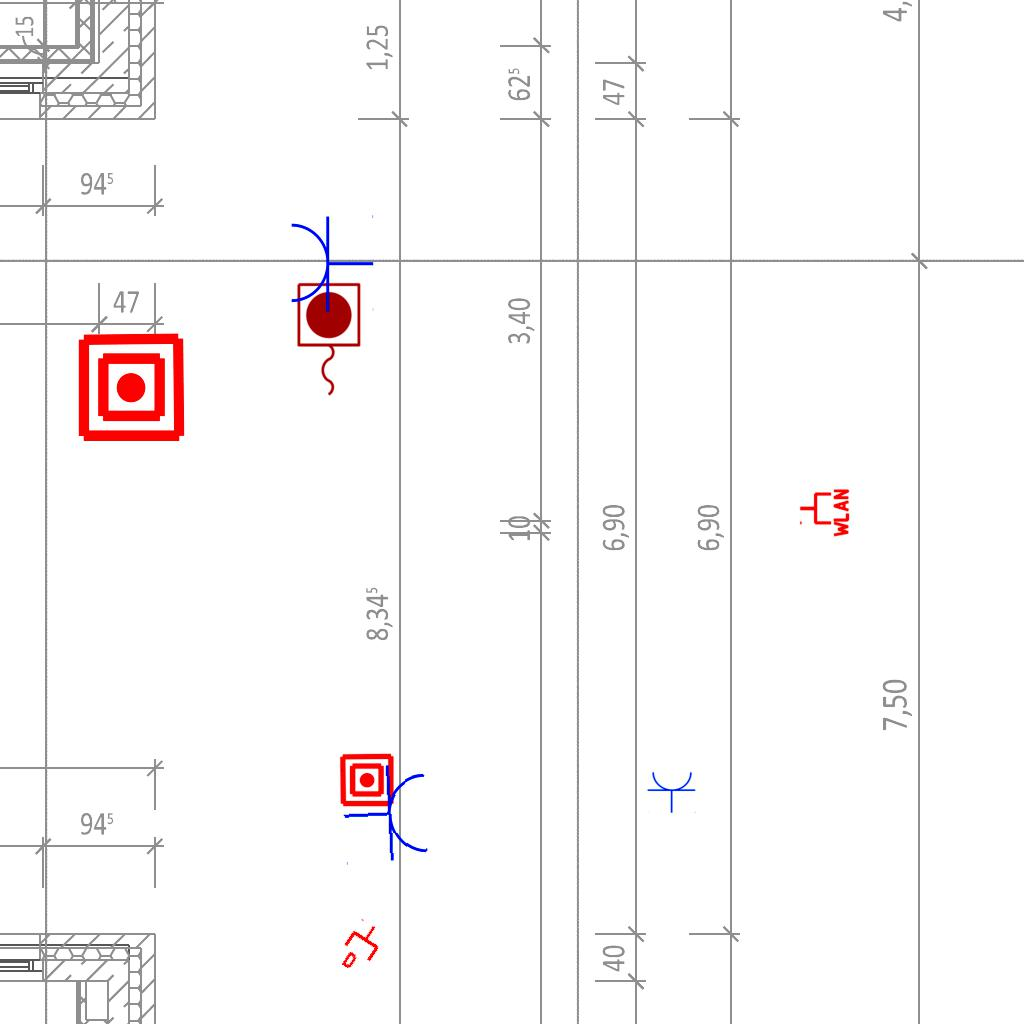Datenanschluss_einfach: (333, 916, 389, 978)
NAM-Nichtautomatischer_Melder: (75, 331, 188, 444), (339, 752, 395, 808)
Schukosteckdose_einfach: (340, 762, 434, 867), (287, 213, 374, 313), (647, 770, 697, 813)
WLAN: (798, 487, 850, 539)
Zugtaster: (292, 279, 364, 401)
